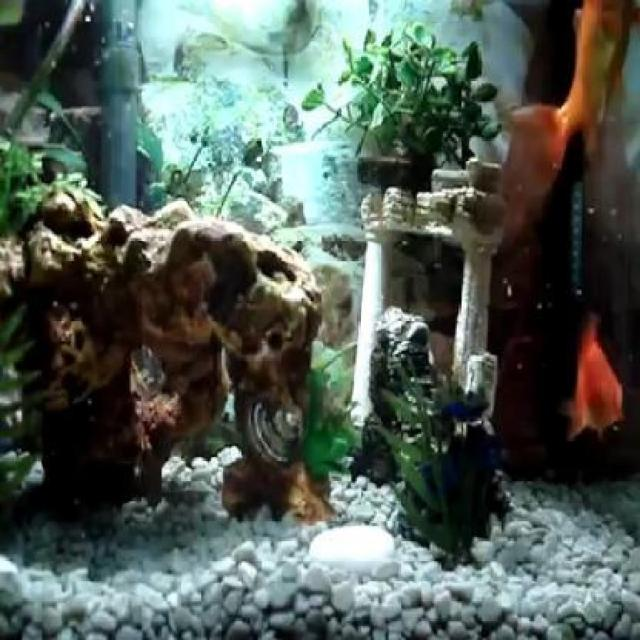GoldFish: (566, 315, 628, 439)
